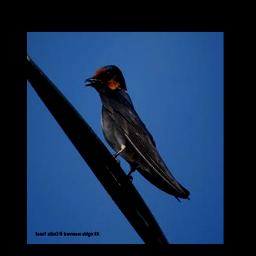Swallow: (85, 64, 191, 199)
